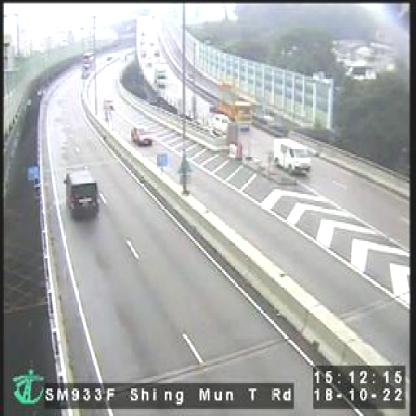Bus: (208, 82, 254, 133)
Car: (63, 168, 100, 222), (271, 136, 312, 178), (130, 123, 154, 148)
